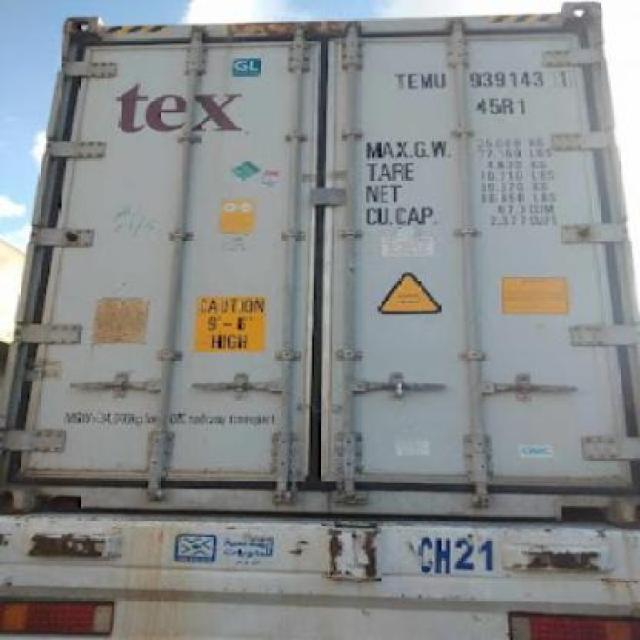ISO: (476, 92, 524, 116)
container_number: (400, 70, 568, 90)
